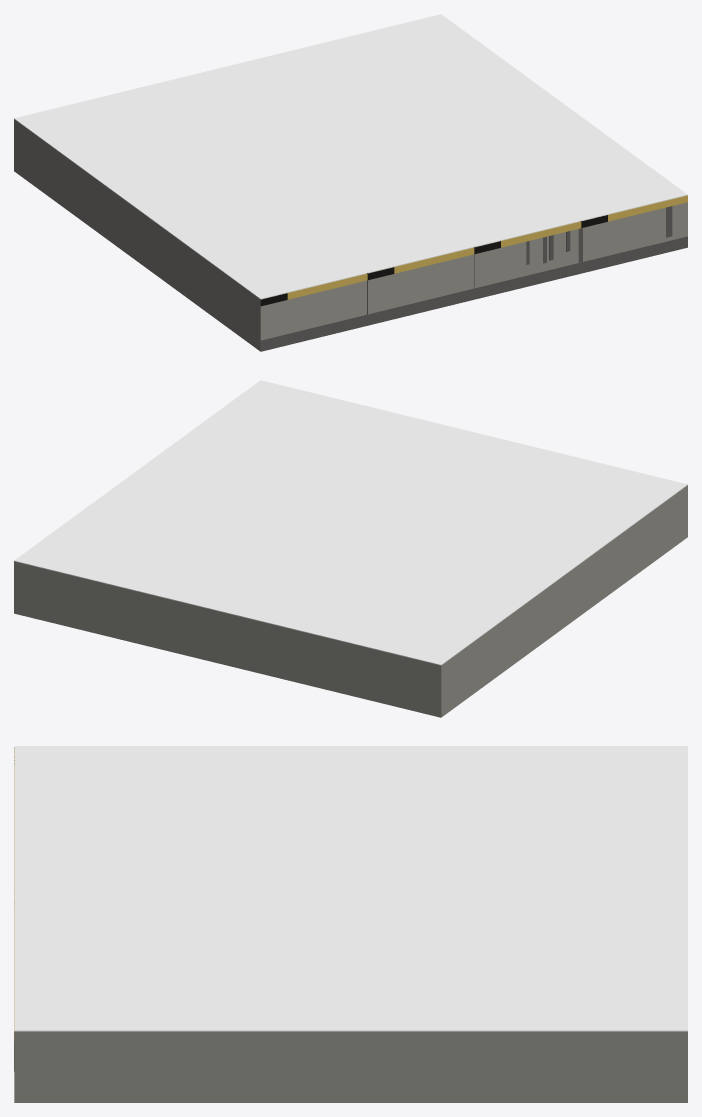
File: garage_level_aisle.glb
The picture shows the model from 3 angles, top to bottom: view 1: azimuth 30°, elevation 25°; view 2: azimuth 150°, elevation 25°; view 3: azimuth 270°, elevation 25°; orthographic projection. The views are drawn at different scales.
Parts seen in each view (by area): view 1: garage_level_aisle_deck, garage_level_aisle_conc, garage_level_aisle_conc_d, garage_level_aisle_must, garage_level_aisle_black; view 2: garage_level_aisle_deck, garage_level_aisle_conc; view 3: garage_level_aisle_deck, garage_level_aisle_conc.
Boxes of the visible parts, <box> form: garage_level_aisle_deck: <box>14,14,687,299</box>; garage_level_aisle_conc: <box>14,119,687,351</box>; garage_level_aisle_conc_d: <box>260,206,687,351</box>; garage_level_aisle_must: <box>287,195,687,299</box>; garage_level_aisle_black: <box>260,215,607,306</box>; garage_level_aisle_deck: <box>14,380,687,665</box>; garage_level_aisle_conc: <box>14,485,687,717</box>; garage_level_aisle_deck: <box>14,746,687,1031</box>; garage_level_aisle_conc: <box>14,1031,687,1102</box>.
Bounding box in the file's own units: 12 × 1.42 × 12.01.
